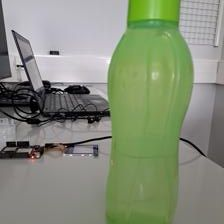bottle: (103, 0, 195, 224)
